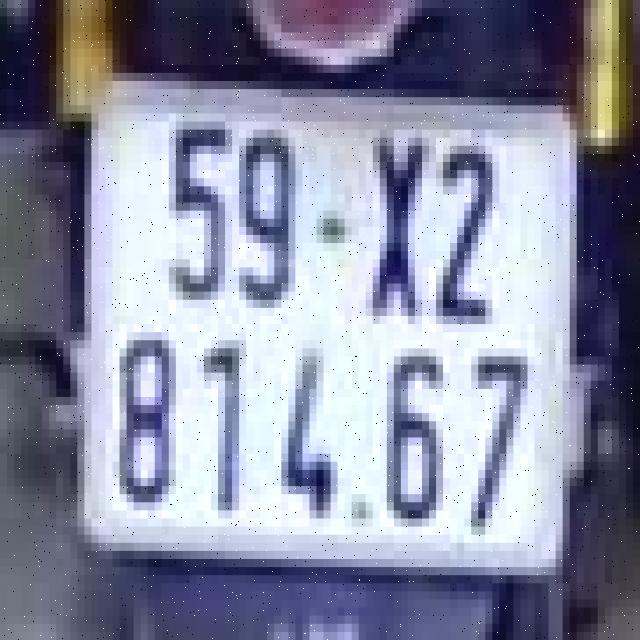1: (197, 324, 260, 527)
2: (432, 142, 510, 328)
4: (274, 332, 338, 519)
5: (162, 109, 239, 312)
6: (380, 348, 450, 526)
7: (457, 344, 535, 539)
8: (91, 316, 183, 518)
9: (232, 126, 303, 320)
X: (359, 122, 429, 332)
